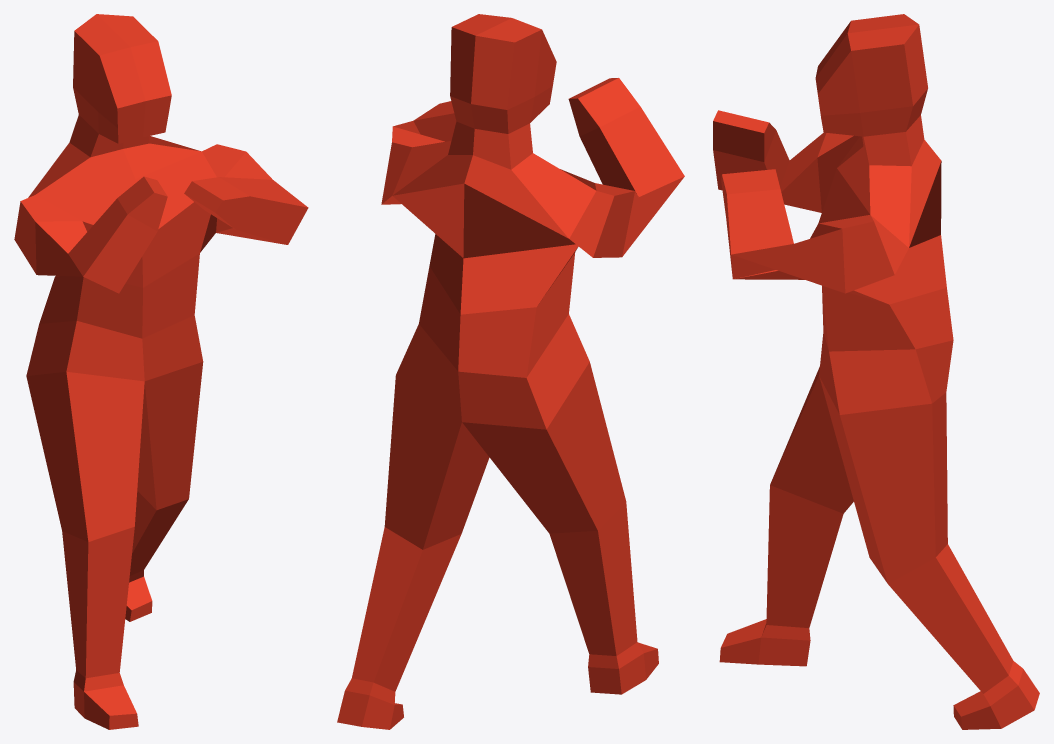
Rendered from Player_Idle_Stance.fbx.
3 renders of one model, left to right at view 1: azimuth 30°, elevation 25°; view 2: azimuth 150°, elevation 25°; view 3: azimuth 270°, elevation 25°, orthographic. The views are drawn at different scales.
Visible parts, largest first — view 1: Person; view 2: Person; view 3: Person.
Part boxes in pixels (x1=…): Person: x1=14, y1=14, x2=308, y2=729; Person: x1=337, y1=14, x2=684, y2=729; Person: x1=713, y1=14, x2=1039, y2=729.
Bounding box in the file's own units: 313 × 837 × 370.
